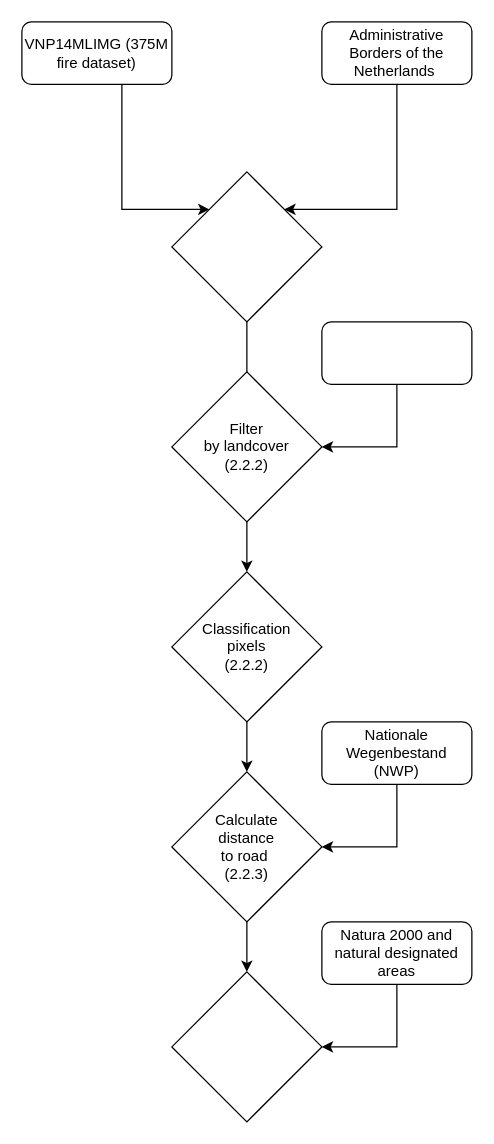
This 494x1144 diagram has some shape labels left out. Each missing label, with the box of its shape:
Corine 2018 Data (raster): (321, 321, 472, 384)
Filter by location (2.2.1): (171, 171, 322, 322)
Pixels in designated natural areas (2.2.4): (171, 971, 322, 1122)
